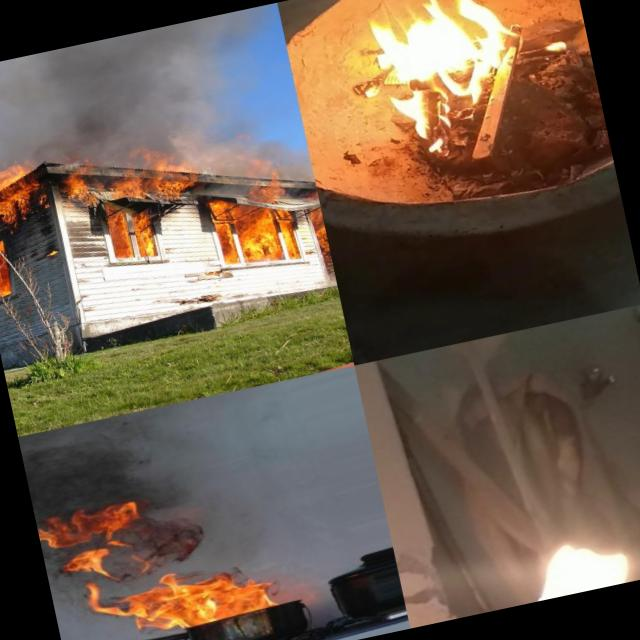fire: (337, 0, 564, 162), (83, 550, 280, 640), (60, 136, 194, 220), (207, 167, 306, 277), (515, 519, 640, 603), (34, 495, 148, 583), (104, 206, 164, 268), (299, 186, 335, 280), (0, 165, 45, 230), (0, 242, 22, 312)
smoke: (0, 2, 298, 176), (18, 404, 191, 516), (190, 103, 310, 184), (138, 504, 217, 570)
